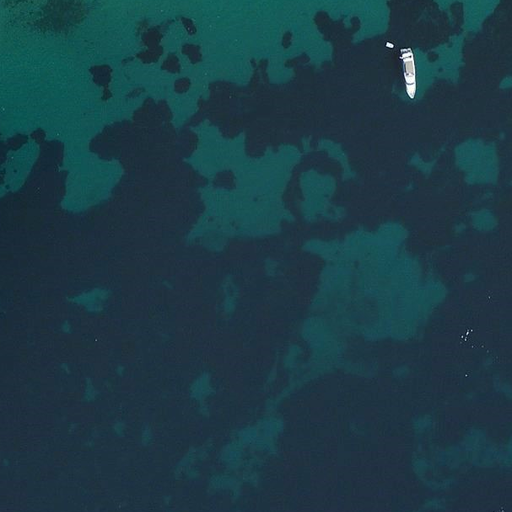ship: (398, 46, 419, 101)
